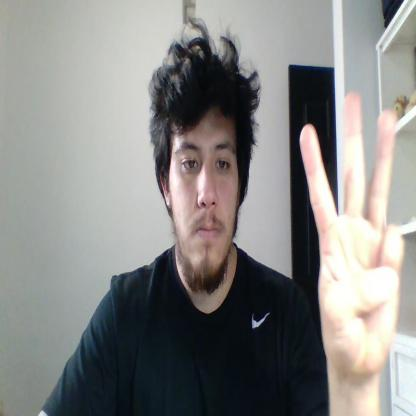W: (300, 93, 405, 380)
